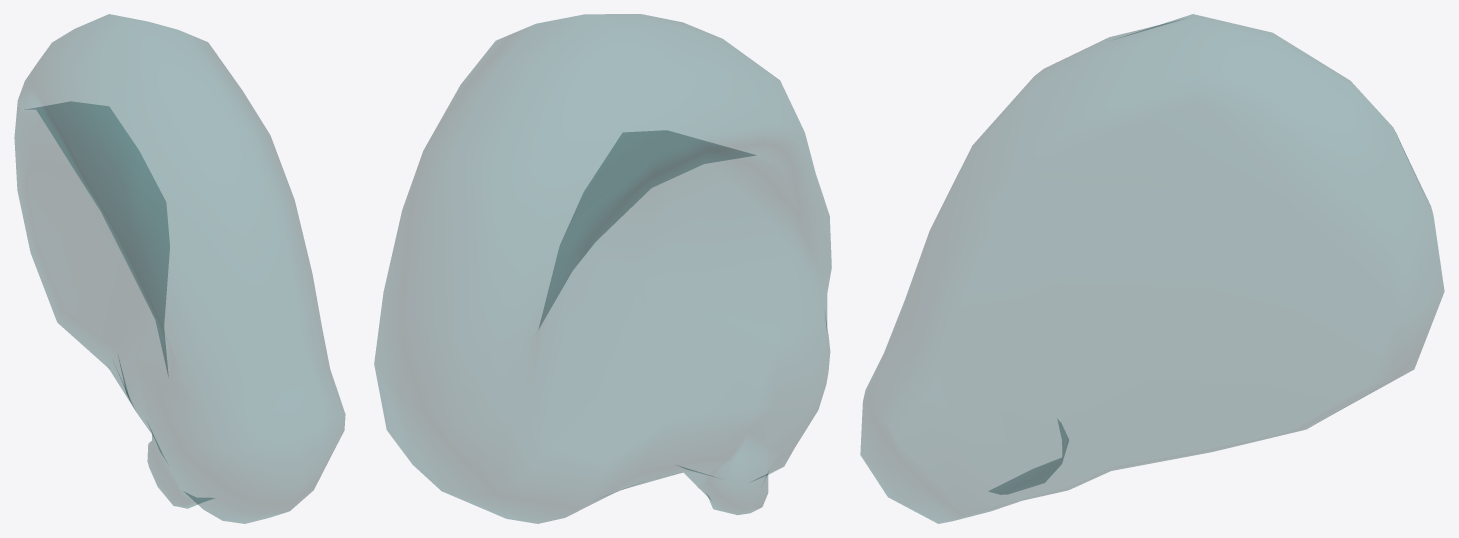
The model's file is Transperent Thalamus_Part_B.gltf.
The picture shows the model from 3 angles, left to right: view 1: azimuth 30°, elevation 25°; view 2: azimuth 150°, elevation 25°; view 3: azimuth 270°, elevation 25°; orthographic projection. The views are drawn at different scales.
Visible parts, largest first — view 1: Thalamus_Part_B; view 2: Thalamus_Part_B; view 3: Thalamus_Part_B.
Part boxes in pixels (x1=…): Thalamus_Part_B: x1=14, y1=14, x2=345, y2=523; Thalamus_Part_B: x1=374, y1=14, x2=831, y2=523; Thalamus_Part_B: x1=860, y1=14, x2=1444, y2=523.
Size of the model in its own units: 2.12 by 4.68 by 5.04.
